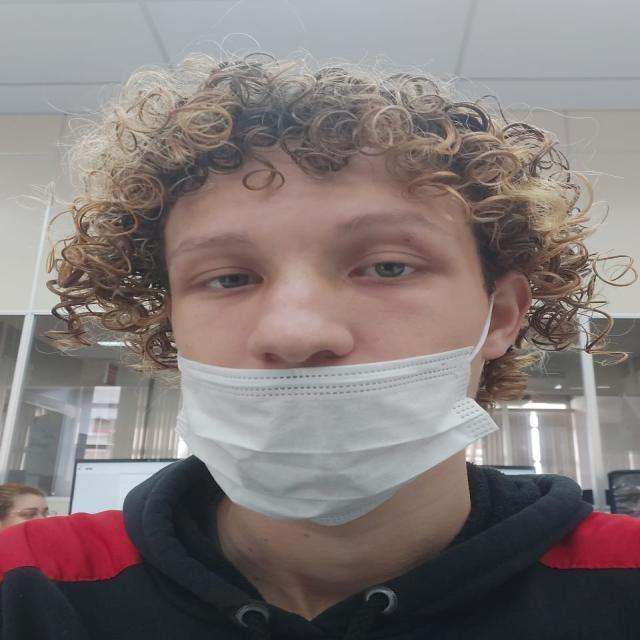hairnet: (156, 186, 477, 505)
